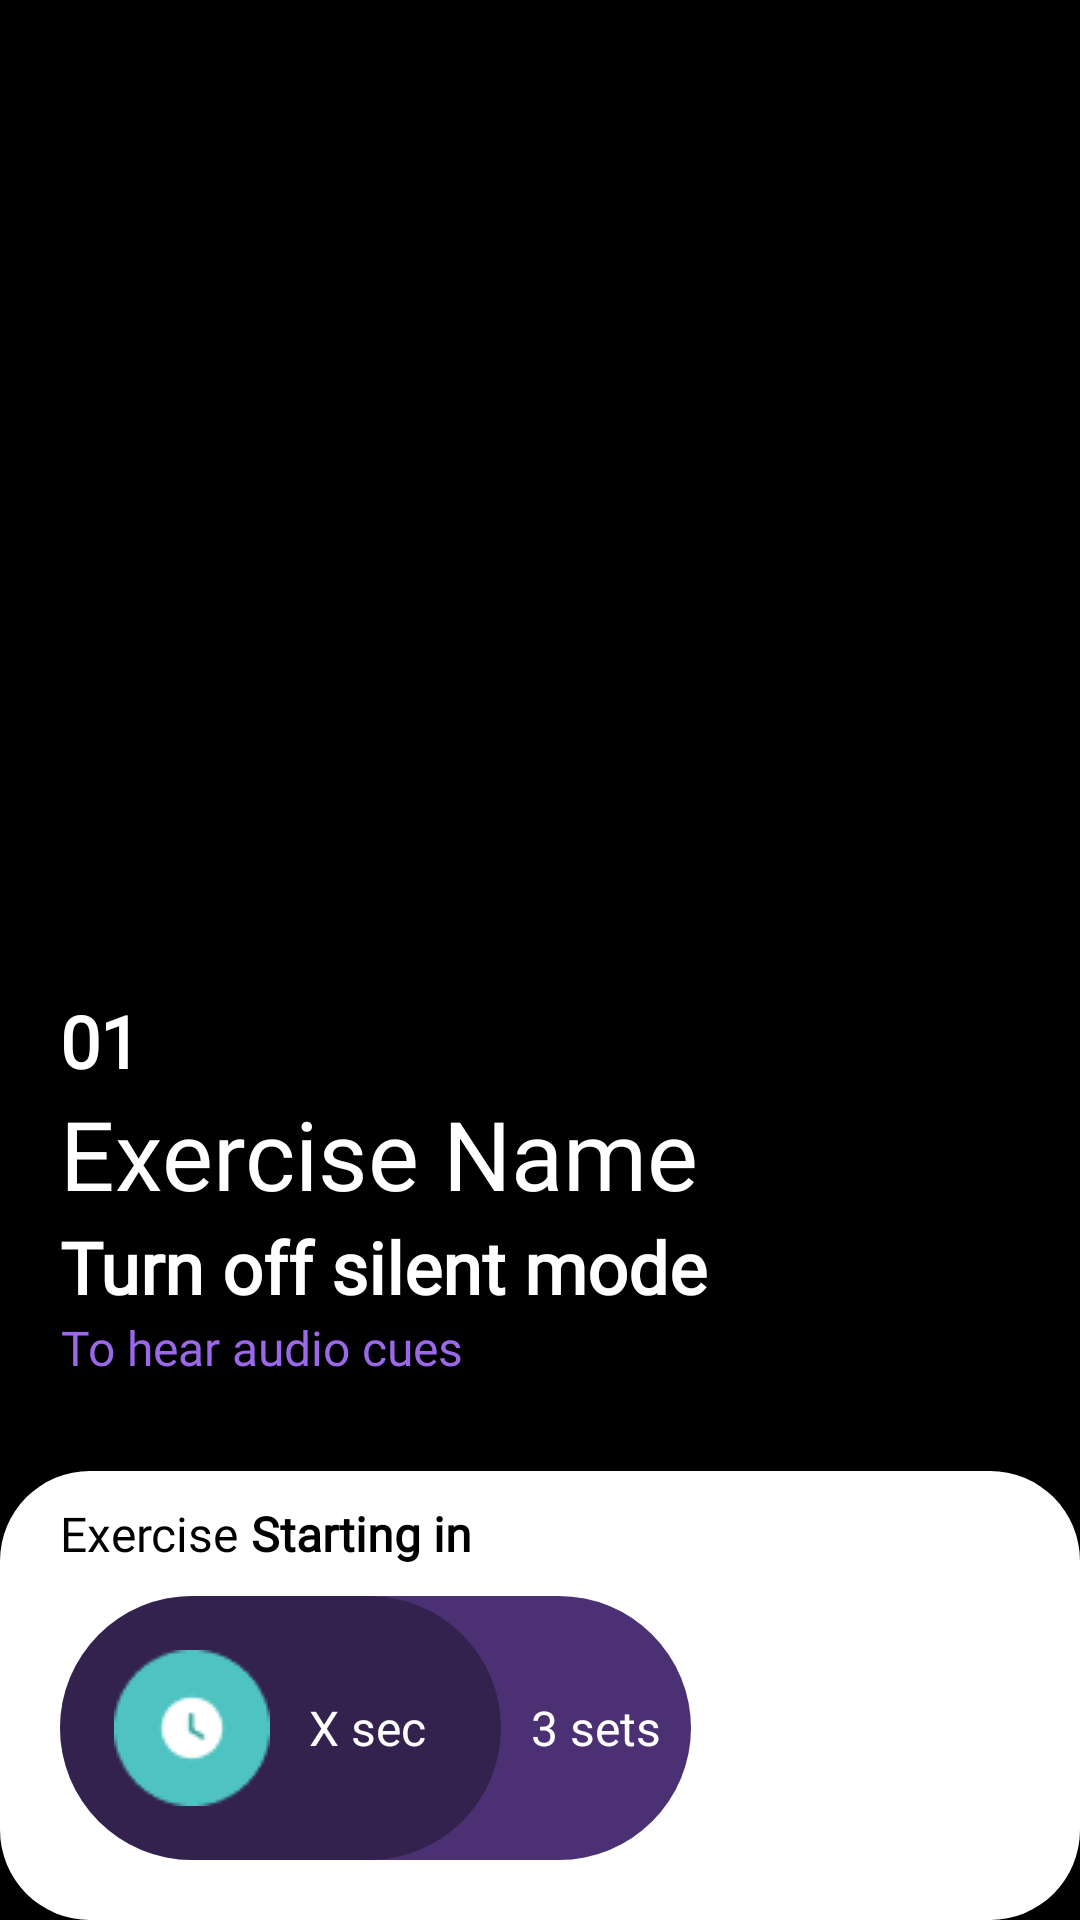

Named icons in this screenshot (1080 x 1920) and their bounding boxes, [x1,y1,x2,y2]:
clock: [114,1650,270,1806]
